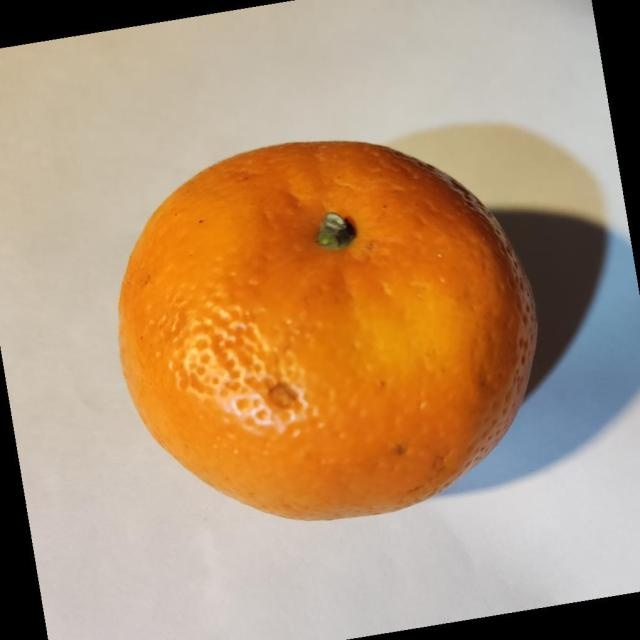agrume: (117, 139, 538, 521)
